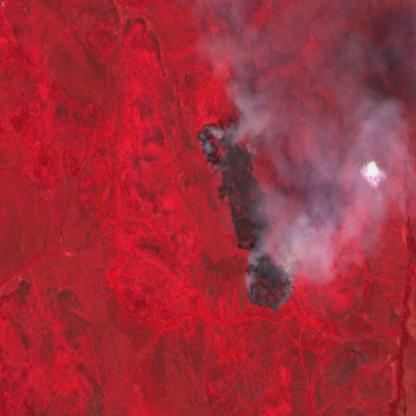fire: (194, 114, 302, 317)
